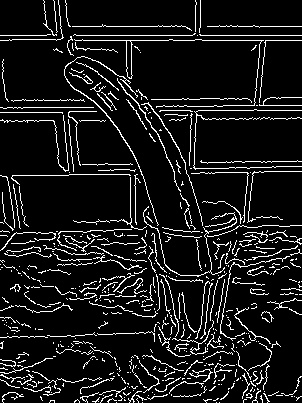cucumber: (58, 51, 216, 339)
